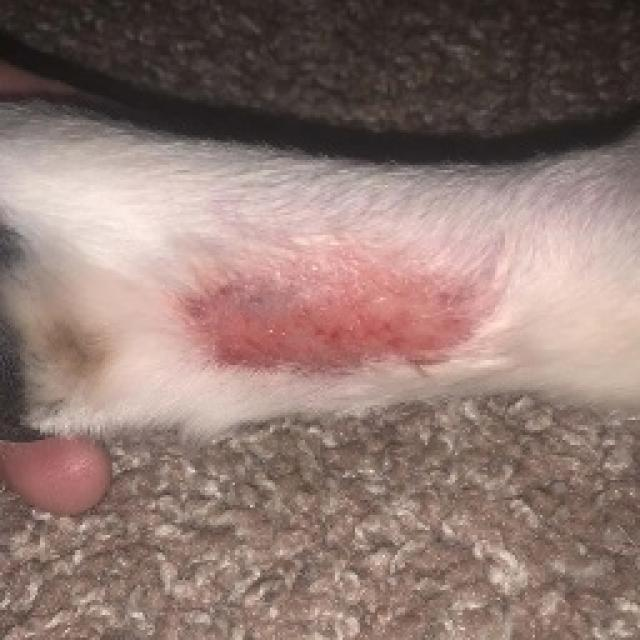hotspot: (186, 267, 469, 363)
